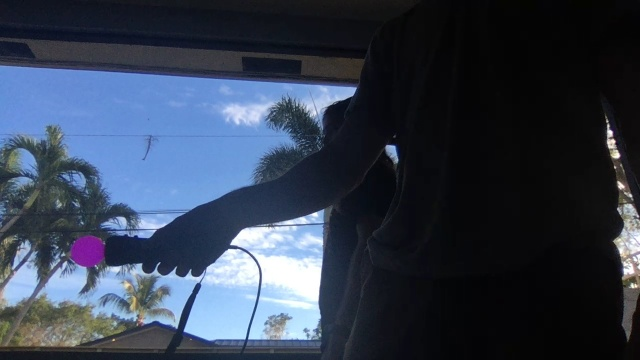wand: (73, 236, 106, 266)
